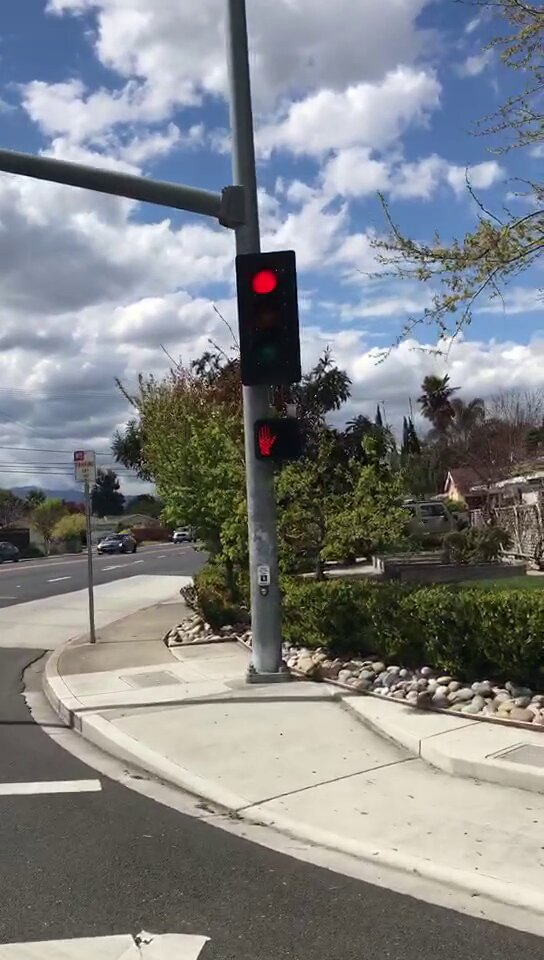red_light: (240, 253, 297, 383)
